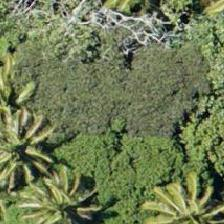coconut_tree: (0, 105, 62, 195), (32, 163, 122, 223), (148, 163, 223, 223)
